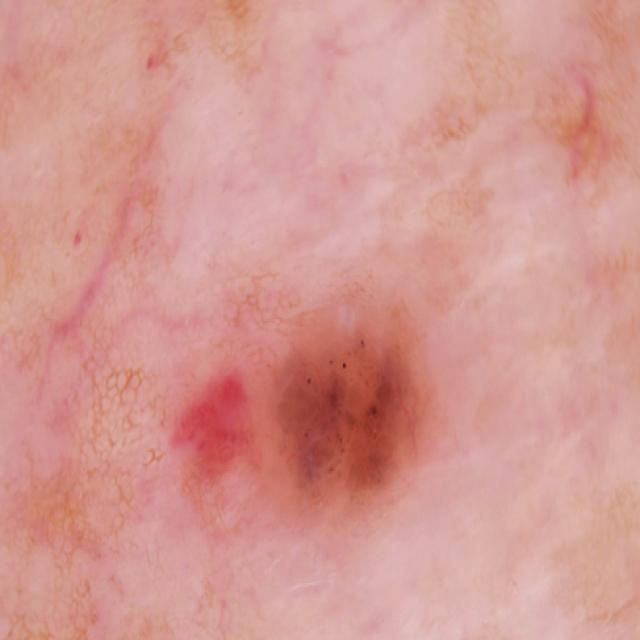Carcinoma: (241, 266, 435, 514), (533, 70, 631, 202)
